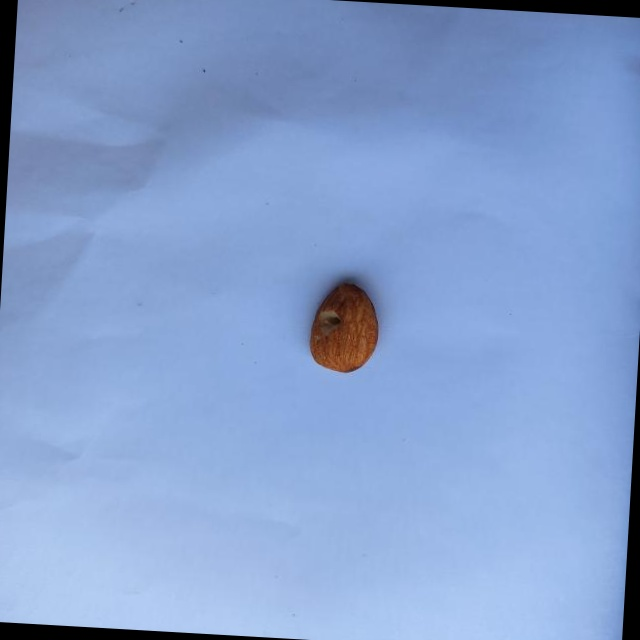grade3: (303, 276, 383, 379)
